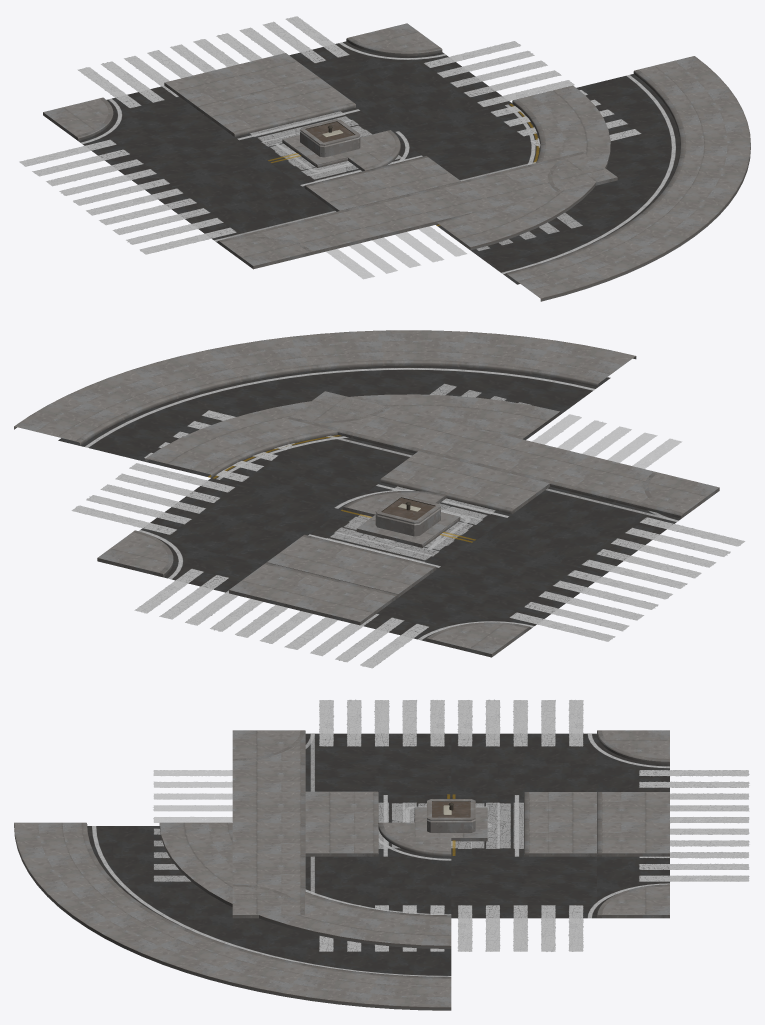
Rendered from streets.glb.
The picture shows the model from 3 angles, top to bottom: view 1: azimuth 30°, elevation 25°; view 2: azimuth 150°, elevation 25°; view 3: azimuth 270°, elevation 25°; orthographic projection. The views are drawn at different scales.
Visible parts, largest first — view 1: Street_TIntersection, Street_4WayIntersection, Street_Curve_4LaneShort, Street_Curve_2Lane, Street_Asphalt_9x9, Street_2Lane, Street_4Lane, Street_Curve_4Lane_Short_Curb, Street_Curve_2Lane_Curb, Prop_Planter_Single, Decal_Crosswalk_Wide, Decal_Crosswalk (+3 smaller); view 2: Street_4WayIntersection, Street_Curve_4LaneShort, Street_TIntersection, Street_Curve_2Lane, Street_Asphalt_9x9, Street_2Lane, Street_Curve_4Lane_Short_Curb, Street_4Lane, Street_Curve_2Lane_Curb, Prop_Planter_Single, Decal_Crosswalk_Wide, Decal_Crosswalk (+2 smaller); view 3: Street_4WayIntersection, Street_Curve_4LaneShort, Street_TIntersection, Street_Curve_2Lane, Street_Asphalt_9x9, Street_2Lane, Street_Curve_4Lane_Short_Curb, Street_4Lane, Street_Curve_2Lane_Curb, Decal_Crosswalk_Wide, Prop_Planter_Single, Decal_Crosswalk (+2 smaller).
Part boxes in pixels (x1,y1,x2,y2): Street_TIntersection: (20, 16, 641, 269); Street_4WayIntersection: (19, 16, 640, 279); Street_Curve_4LaneShort: (348, 56, 750, 301); Street_Curve_2Lane: (348, 85, 610, 250); Street_Asphalt_9x9: (78, 86, 268, 192); Street_2Lane: (199, 78, 460, 211); Street_4Lane: (164, 53, 439, 239); Street_Curve_4Lane_Short_Curb: (505, 56, 750, 299); Street_Curve_2Lane_Curb: (438, 86, 602, 222); Prop_Planter_Single: (300, 119, 360, 157); Decal_Crosswalk_Wide: (250, 111, 405, 181); Decal_Crosswalk: (258, 116, 401, 179); Street_4WayIntersection: (72, 383, 744, 667); Street_Curve_4LaneShort: (14, 330, 636, 516); Street_TIntersection: (72, 392, 744, 668); Street_Curve_2Lane: (145, 394, 560, 514); Street_Asphalt_9x9: (363, 542, 605, 641); Street_2Lane: (267, 451, 549, 597); Street_Curve_4Lane_Short_Curb: (14, 330, 633, 441); Street_4Lane: (229, 482, 511, 625); Street_Curve_2Lane_Curb: (182, 397, 559, 474); Prop_Planter_Single: (375, 495, 440, 536); Decal_Crosswalk_Wide: (326, 486, 495, 562); Decal_Crosswalk: (330, 503, 487, 560); Street_4WayIntersection: (153, 700, 749, 951); Street_Curve_4LaneShort: (14, 822, 451, 1010); Street_TIntersection: (232, 700, 748, 951); Street_Curve_2Lane: (159, 822, 451, 948); Street_Asphalt_9x9: (451, 733, 669, 794); Street_2Lane: (305, 791, 596, 856); Street_Curve_4Lane_Short_Curb: (14, 824, 451, 1010); Street_4Lane: (378, 792, 669, 856); Street_Curve_2Lane_Curb: (159, 822, 451, 948); Decal_Crosswalk_Wide: (378, 802, 523, 848); Prop_Planter_Single: (427, 799, 475, 832); Decal_Crosswalk: (391, 803, 510, 848).
Bounding box in the file's own units: 30.33 × 1.04 × 30.33.
Materials: 5 (5 with a texture image).
